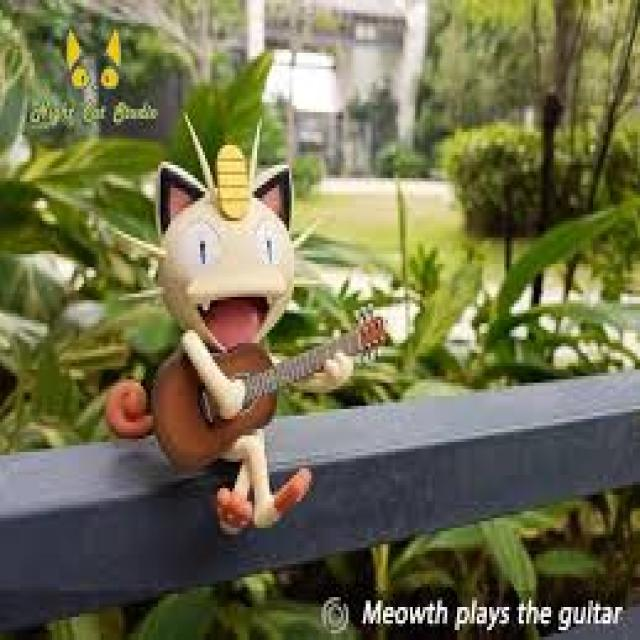Meowth: (152, 142, 300, 417)
